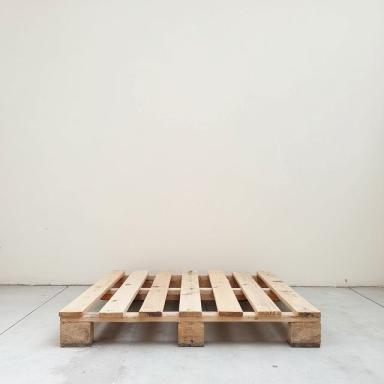pallet: (58, 269, 321, 347)
